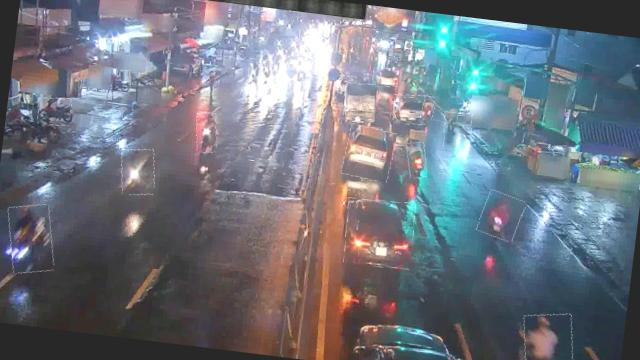Bike: (3, 202, 58, 276), (519, 310, 576, 360), (478, 190, 524, 242), (118, 146, 158, 196), (442, 111, 472, 150), (36, 96, 72, 127), (193, 111, 219, 153), (404, 140, 430, 178), (130, 72, 158, 88), (420, 95, 435, 120), (247, 58, 261, 82), (260, 59, 272, 78)
Car: (342, 196, 416, 270), (341, 124, 396, 182), (391, 93, 428, 126), (371, 66, 401, 88)
Truck: (342, 81, 378, 124)
